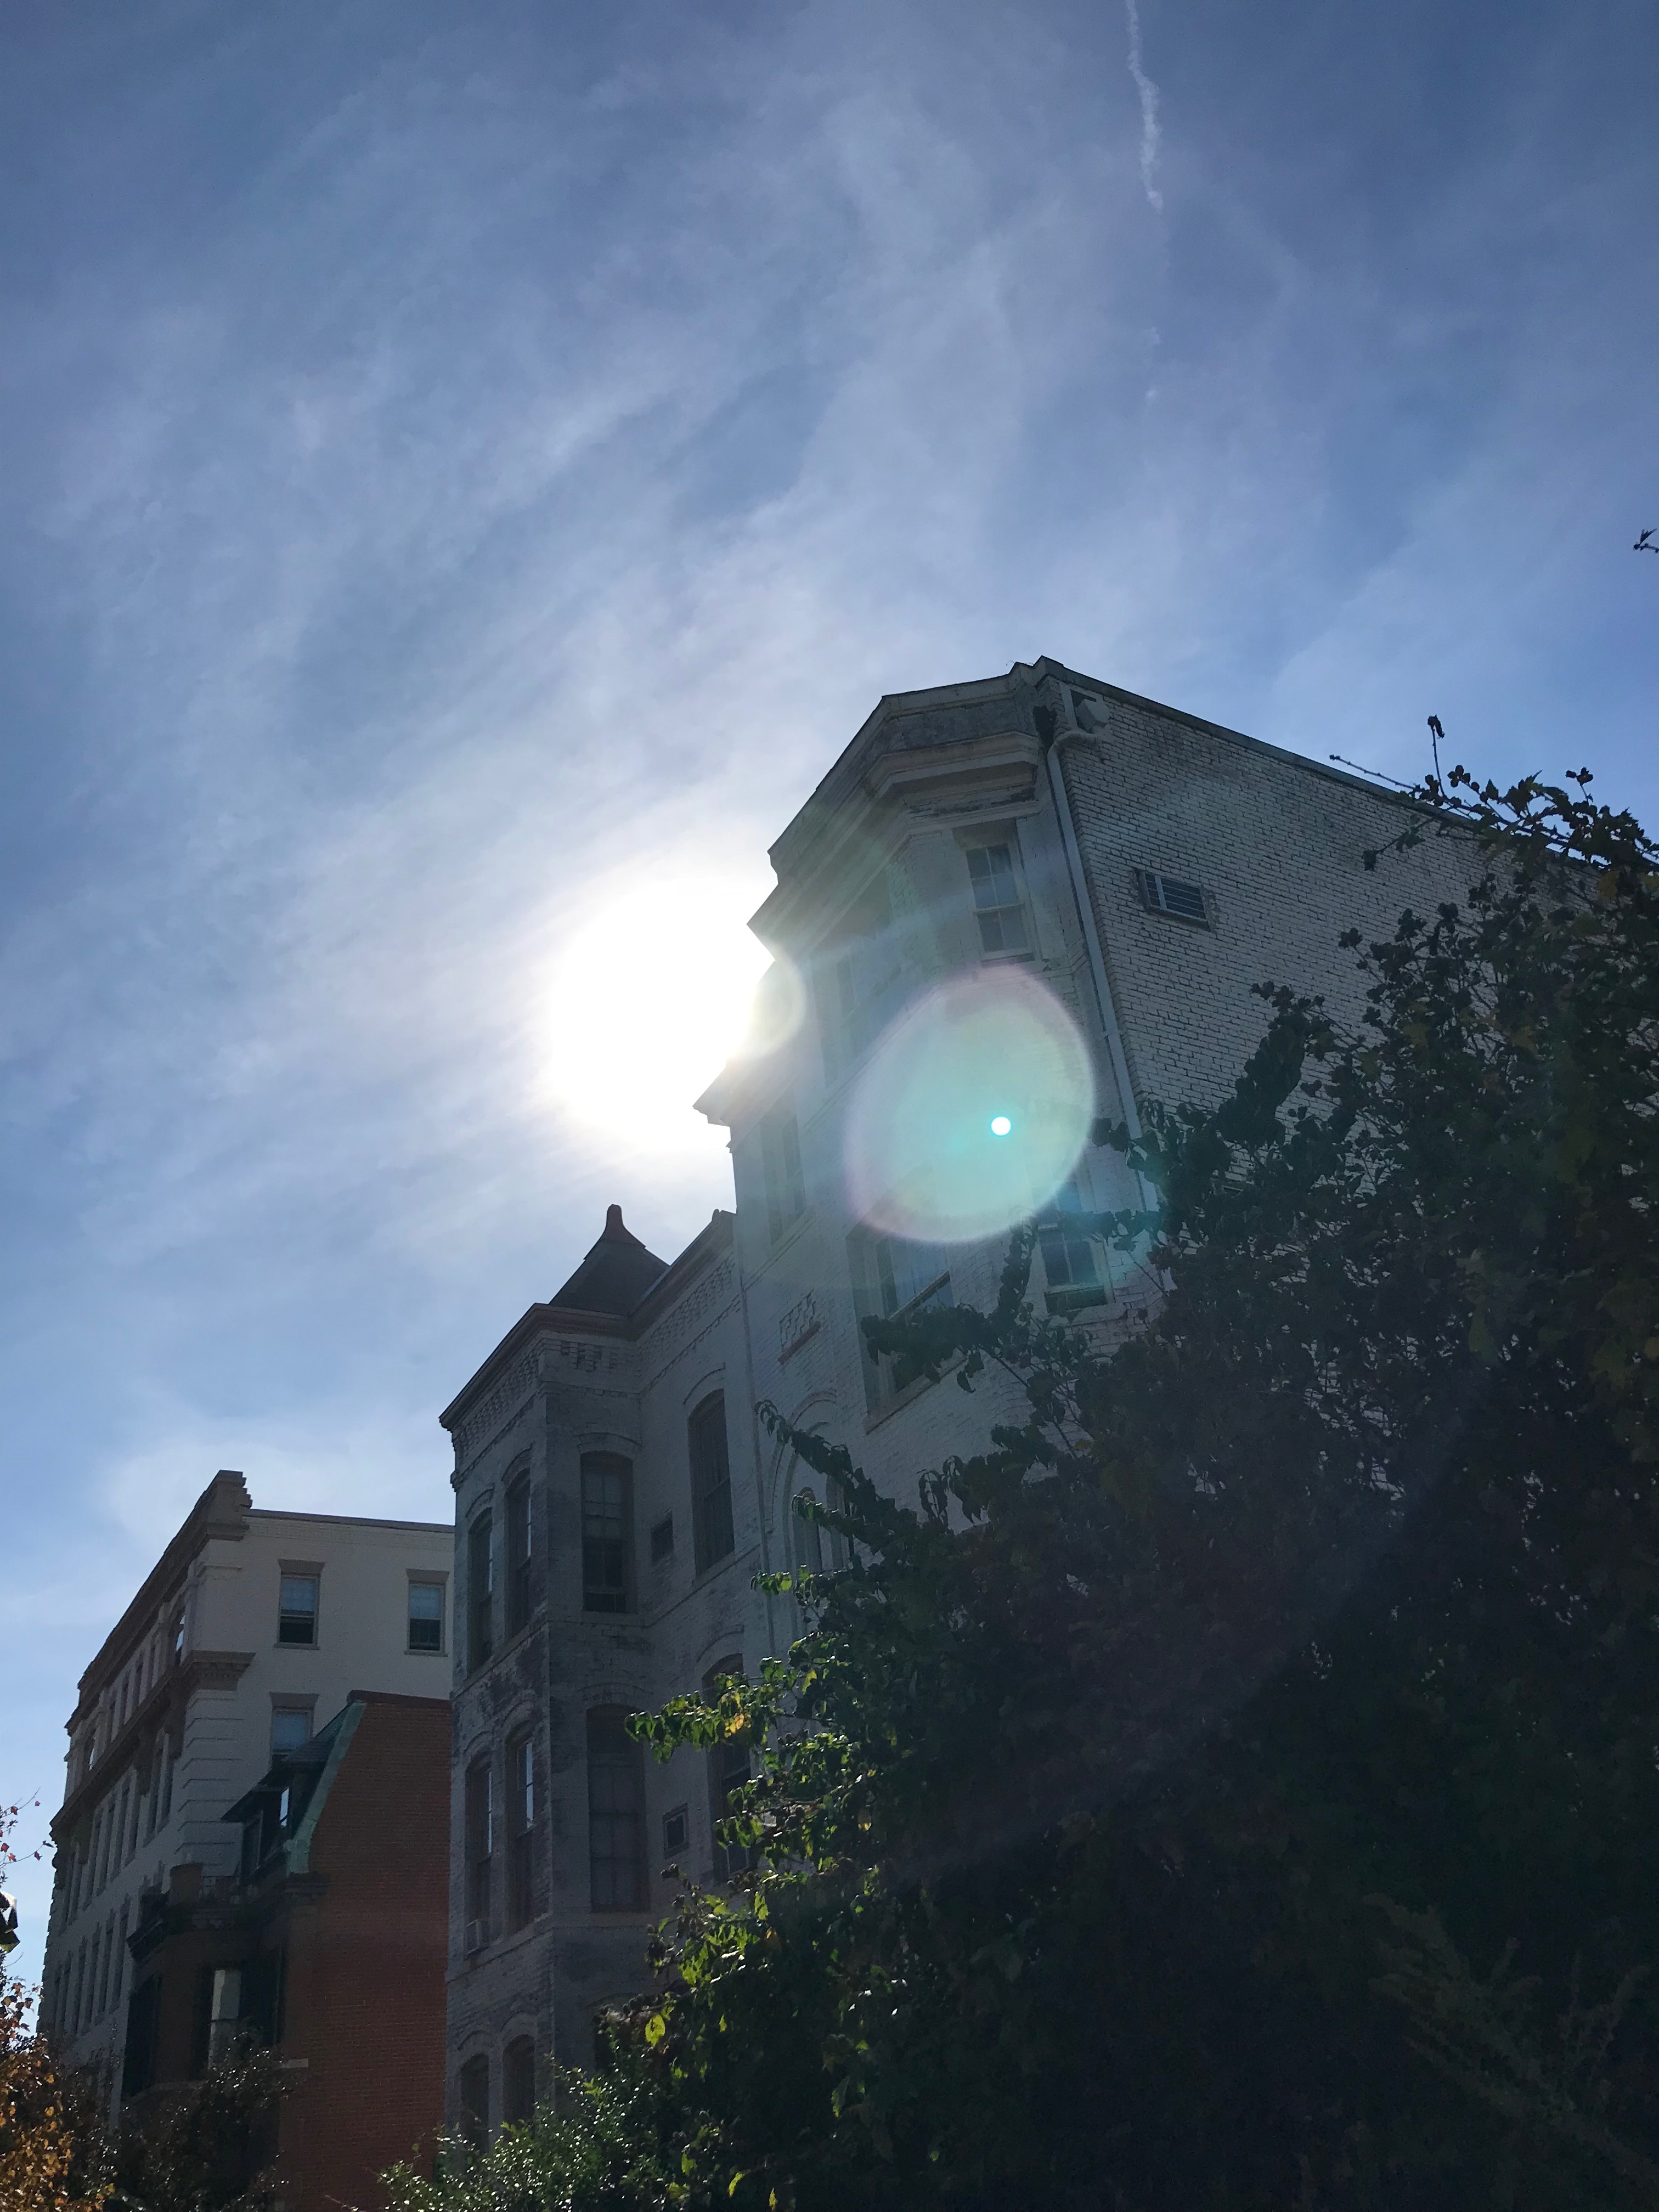flare: (988, 1115, 1014, 1139)
